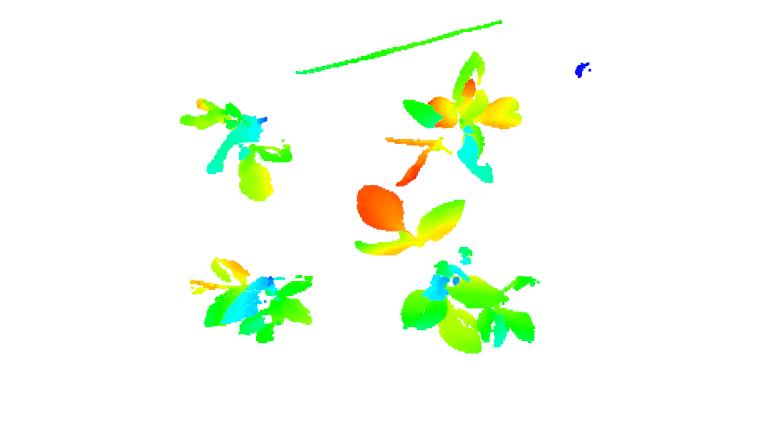mungbean: (355, 184, 542, 354), (387, 49, 521, 186), (177, 92, 292, 203), (190, 253, 314, 352)
